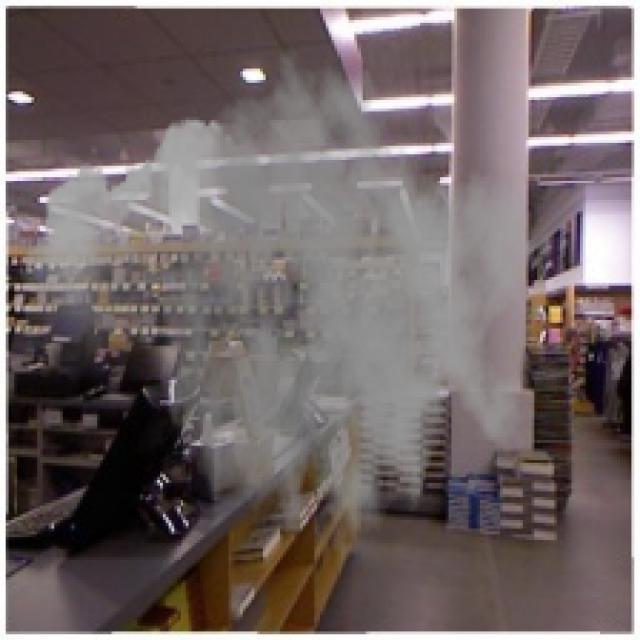smoke: (17, 49, 537, 594)
